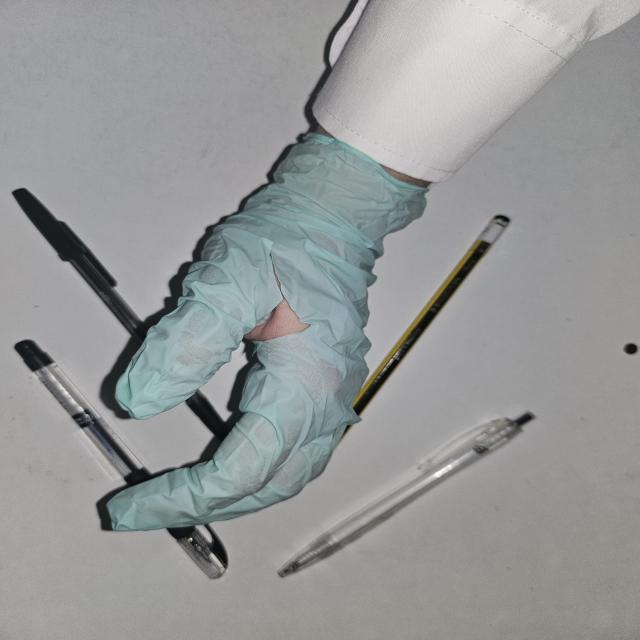gloves_damaged: (101, 122, 431, 536)
